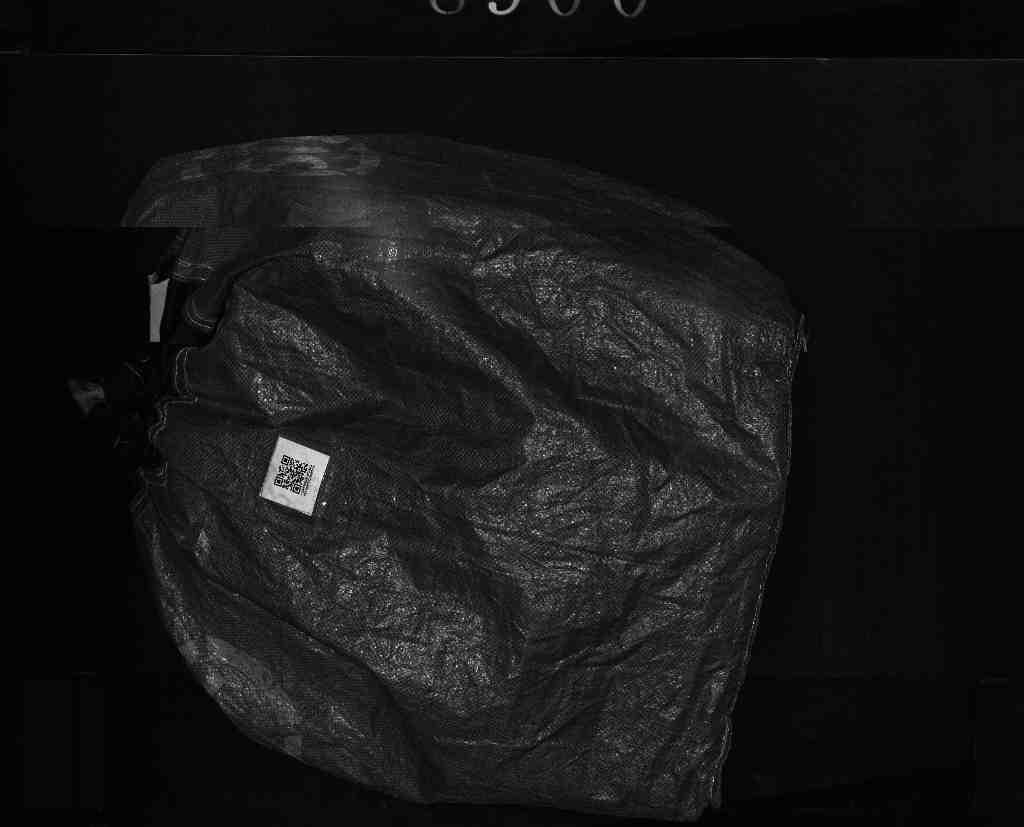box: (86, 136, 817, 812)
